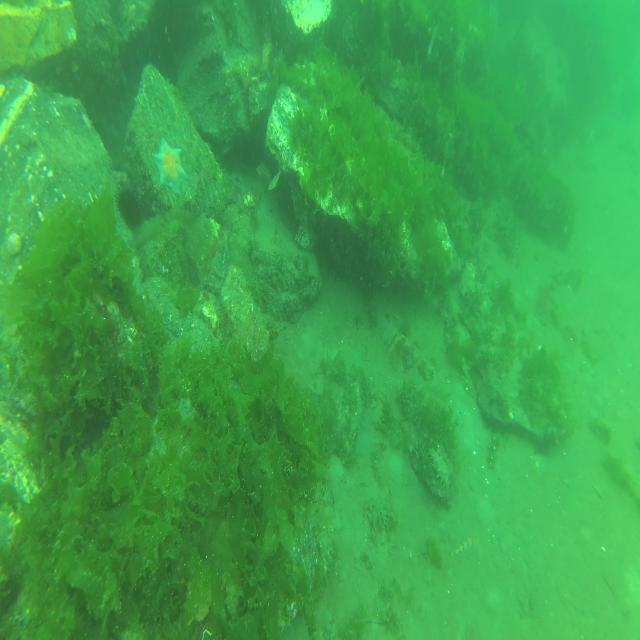echinus: (114, 182, 143, 233)
holothurian: (425, 443, 452, 493)
starfish: (150, 135, 188, 194)
